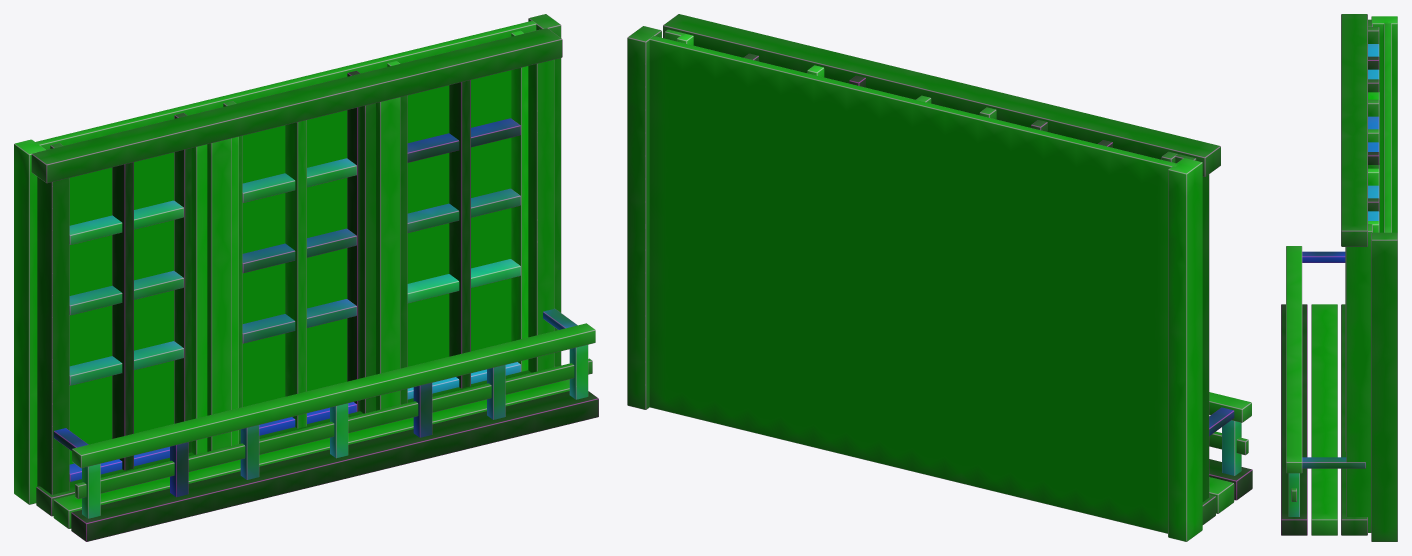
File: window_400x350_01.fbx
3 views of the same model, side by side, from view 1: azimuth 30°, elevation 25°; view 2: azimuth 150°, elevation 25°; view 3: azimuth 270°, elevation 25° (orthographic). The views are drawn at different scales.
Parts seen in each view (by area): view 1: window_400x350_01; view 2: window_400x350_01; view 3: window_400x350_01.
Boxes of the visible parts, box(x1,y1,x2,y2) form: window_400x350_01: box(14, 14, 598, 541); window_400x350_01: box(627, 14, 1252, 541); window_400x350_01: box(1281, 14, 1397, 541).
Size of the model in its own units: 3.21 by 2.04 by 0.7092.
